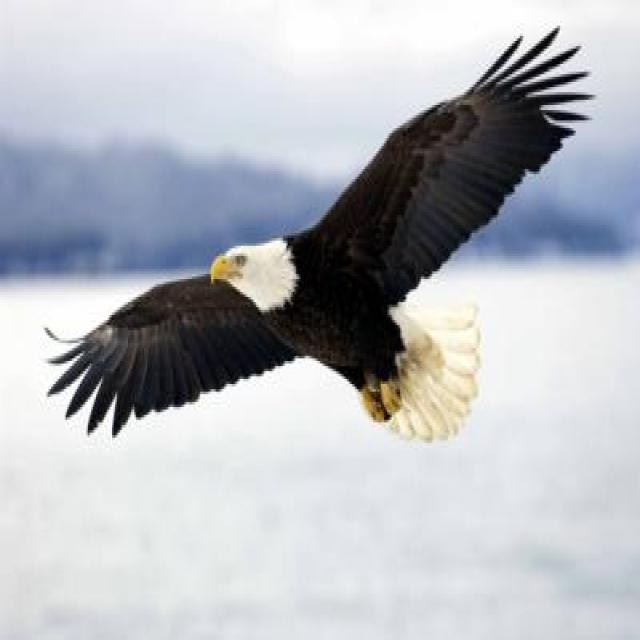birds: (31, 16, 596, 461)
